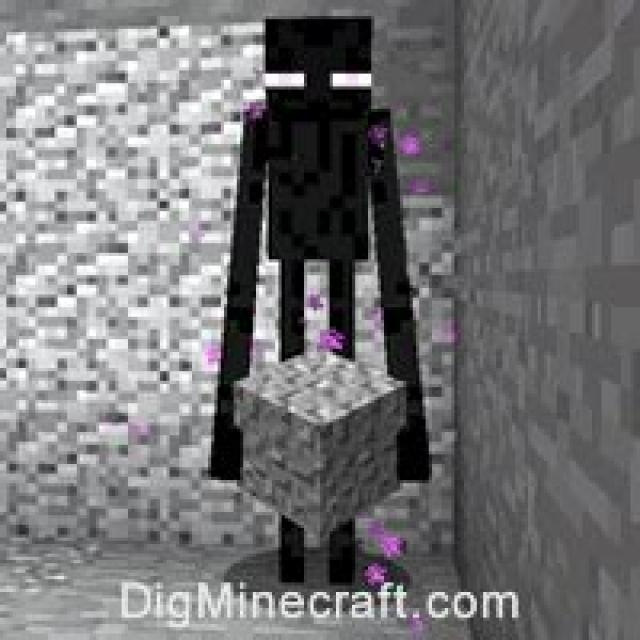Enderman: (200, 5, 434, 587)
